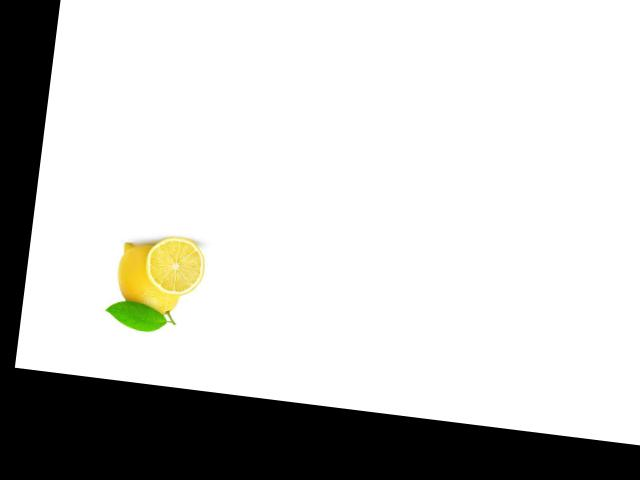lemon: (105, 233, 190, 327)
